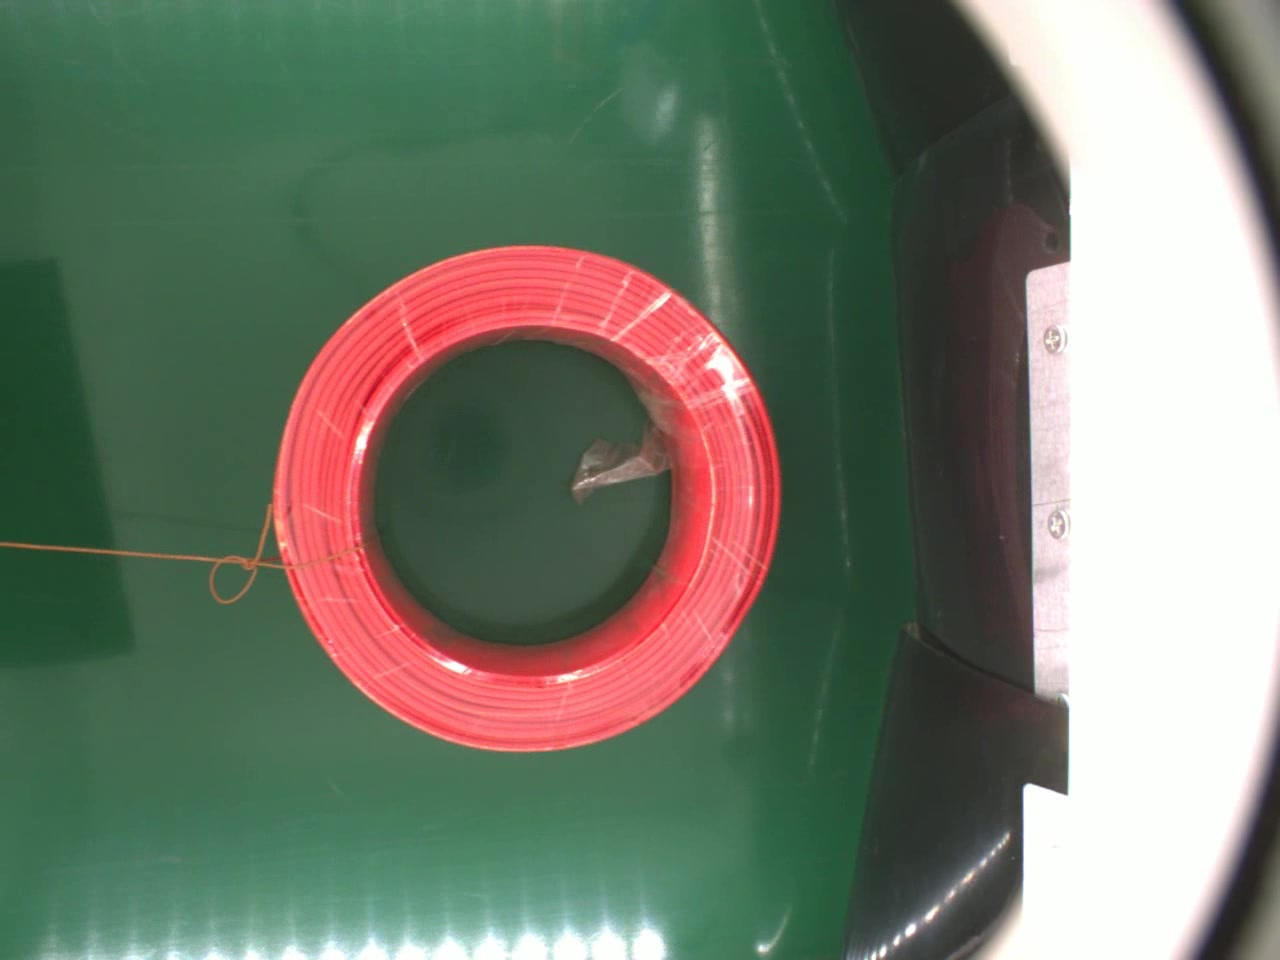red: (259, 234, 787, 757)
